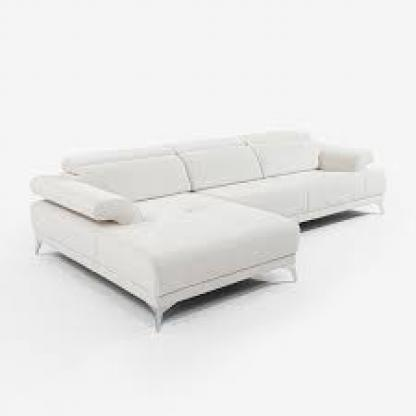sofa: (24, 137, 385, 303)
